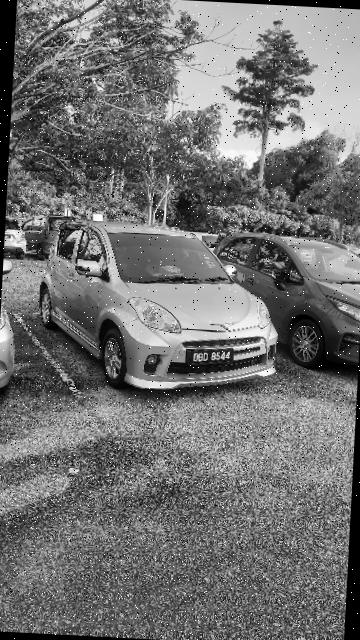License_Plate: (184, 345, 238, 367)
car: (35, 215, 290, 397), (209, 221, 360, 367)
